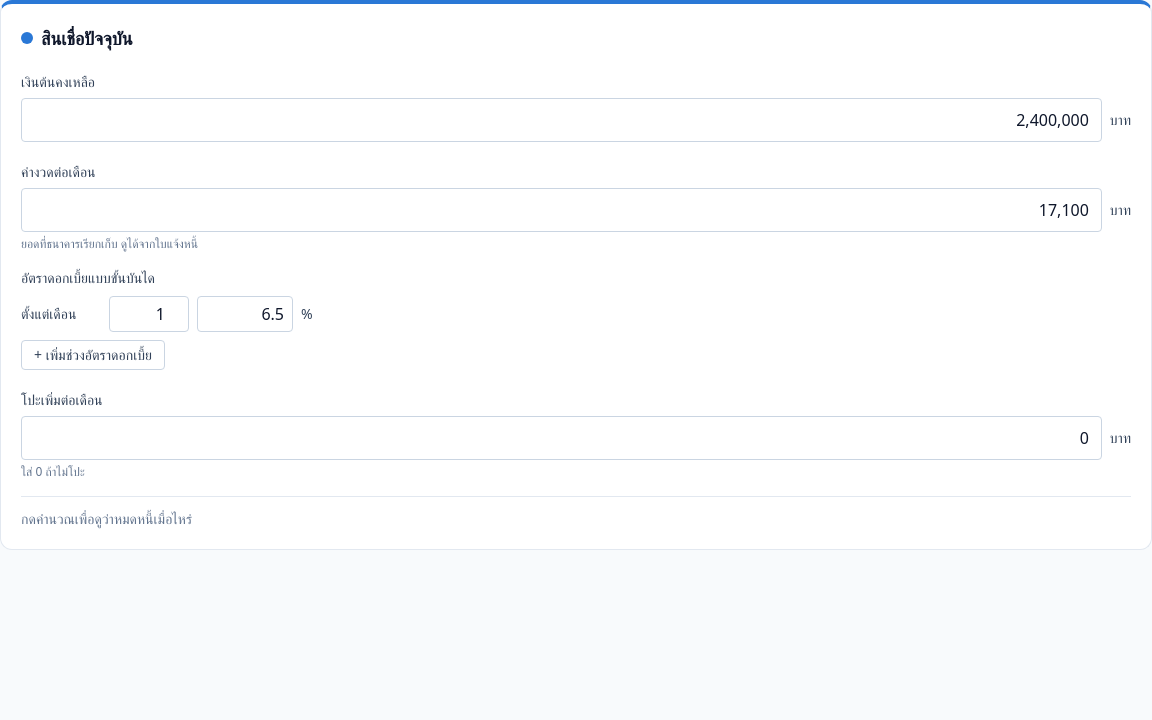
Test: LoanForm amount fields › refuses a third decimal place
Replace the text in the field labelled "ค่างวดต่อเดือน บาท ยอดที่ธนาคารเรียกเก็บ ดูได้จากใบแจ้งหนี้" with "17110.535". click: [561, 210]
box: x1=21 y1=188 x2=1102 y2=232
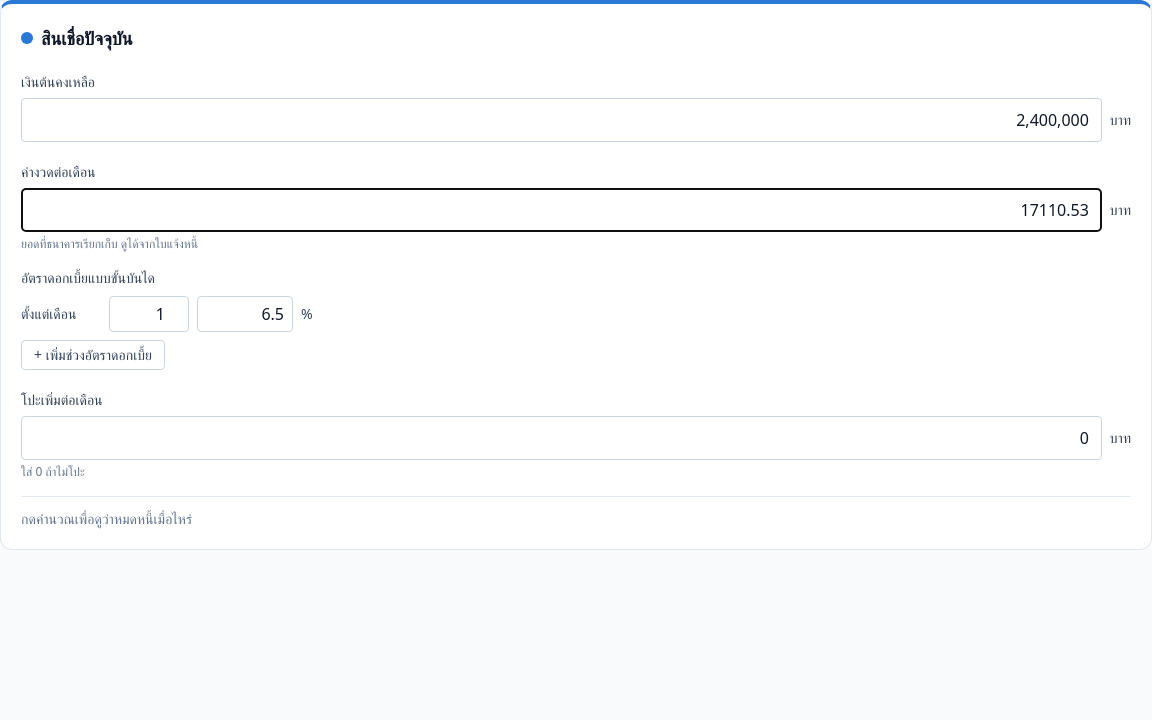
Expected: the field labelled "ค่างวดต่อเดือน บาท ยอดที่ธนาคารเรียกเก็บ ดูได้จากใบแจ้งหนี้" holds "17110.53", x1=21 y1=188 x2=1102 y2=232
